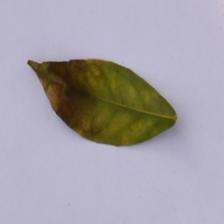black spot: (25, 46, 104, 137)
